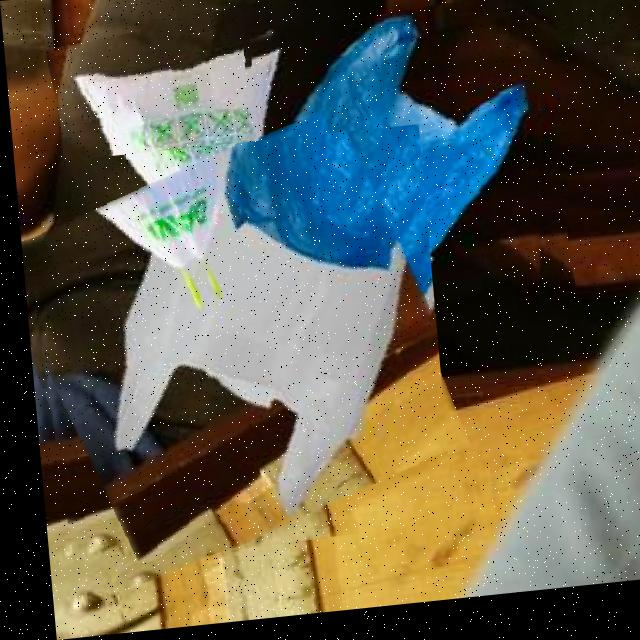litter: (12, 132, 444, 573), (247, 4, 568, 358), (51, 9, 316, 335)
